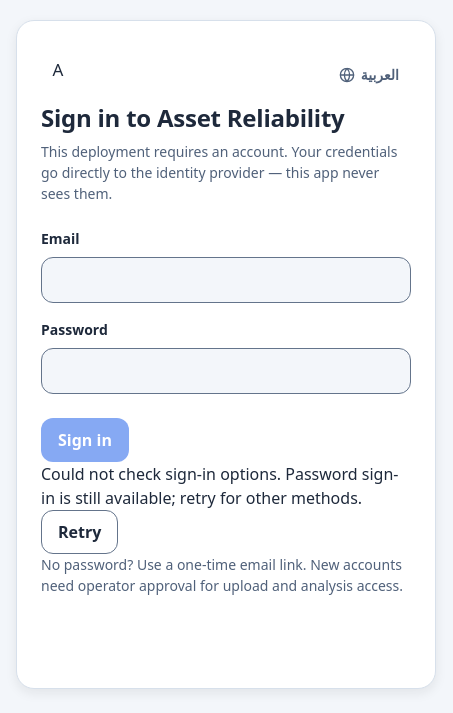
Test: managed SignIn › offers explicit retry after discovery fails
Click the button "Retry" at (80, 532), box top-left (41, 510), bottom-right (118, 554)
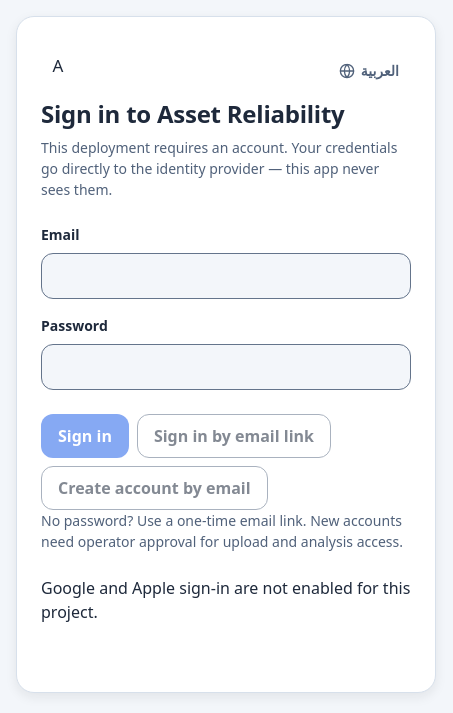
Result: the button "Sign in by email link" is shown at top-left (137, 414), bottom-right (331, 458)
